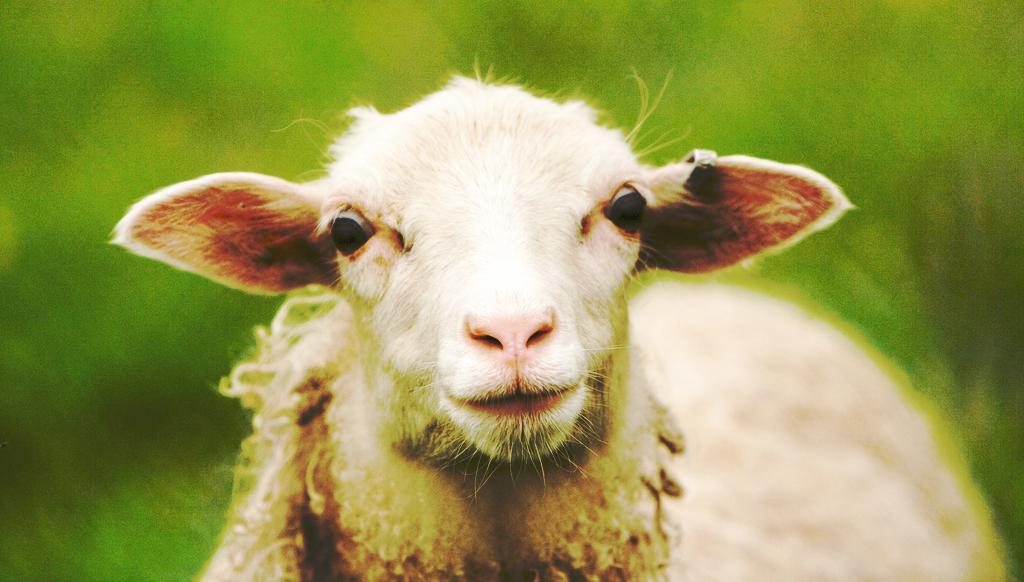Sheep: (107, 56, 1006, 582)
